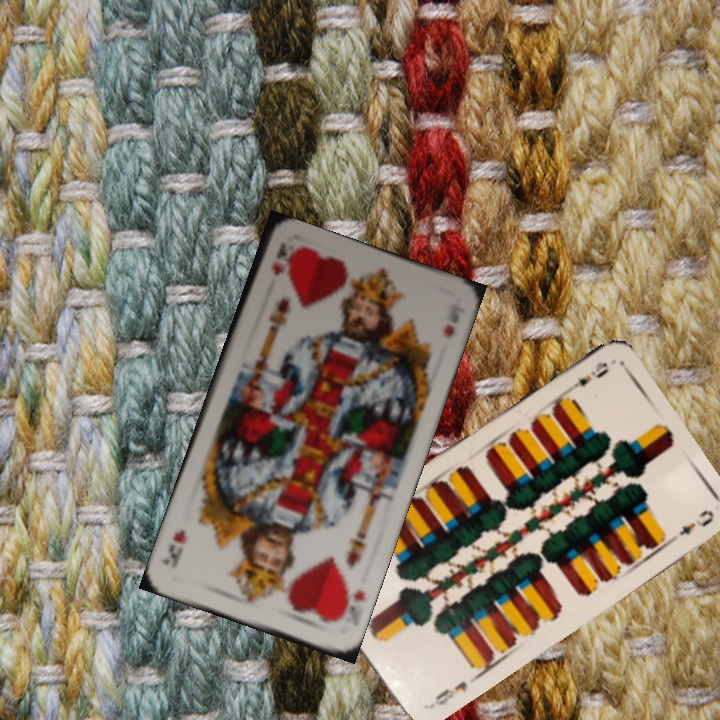E9: (562, 357, 612, 396), (429, 677, 470, 708)
HK: (331, 584, 368, 625), (268, 240, 290, 279)
